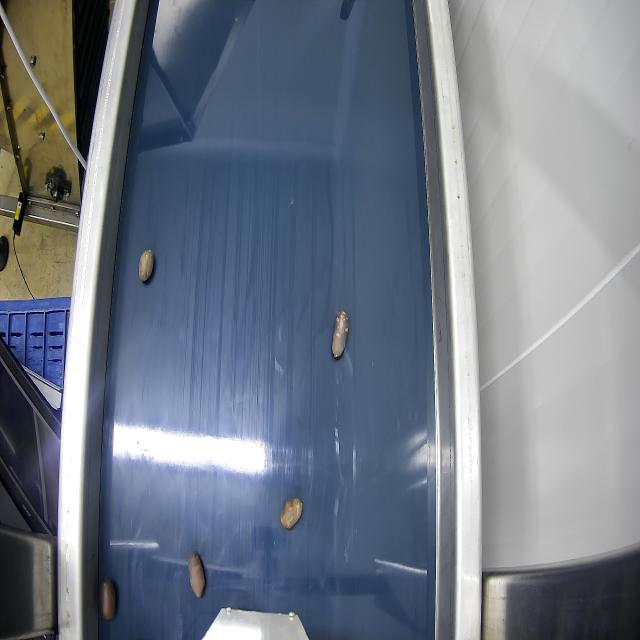Baby Potato: (280, 493, 304, 531), (331, 309, 349, 359), (188, 551, 205, 598), (100, 576, 116, 620), (138, 249, 154, 283)
